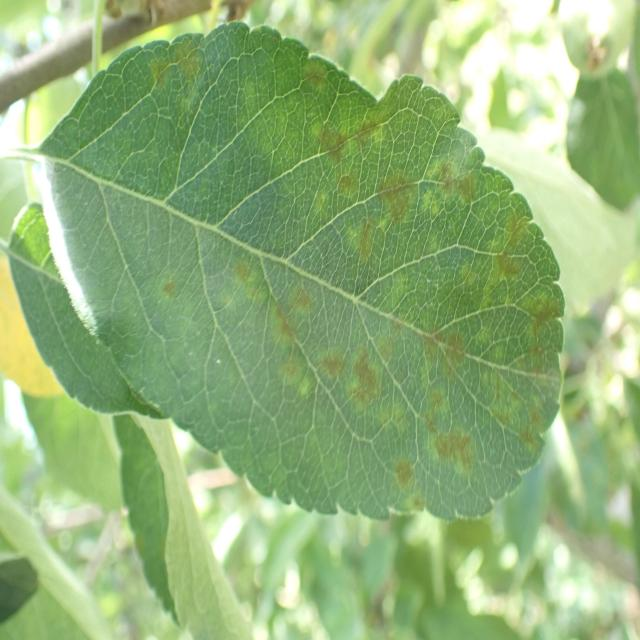scab: (94, 31, 558, 493)
